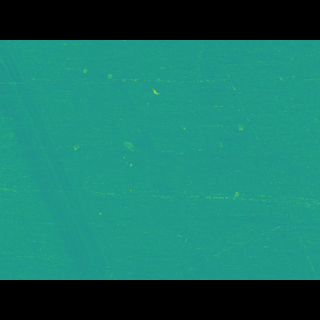Loch: (0, 70, 124, 250), (98, 86, 214, 251), (120, 144, 137, 157), (233, 131, 245, 140)
